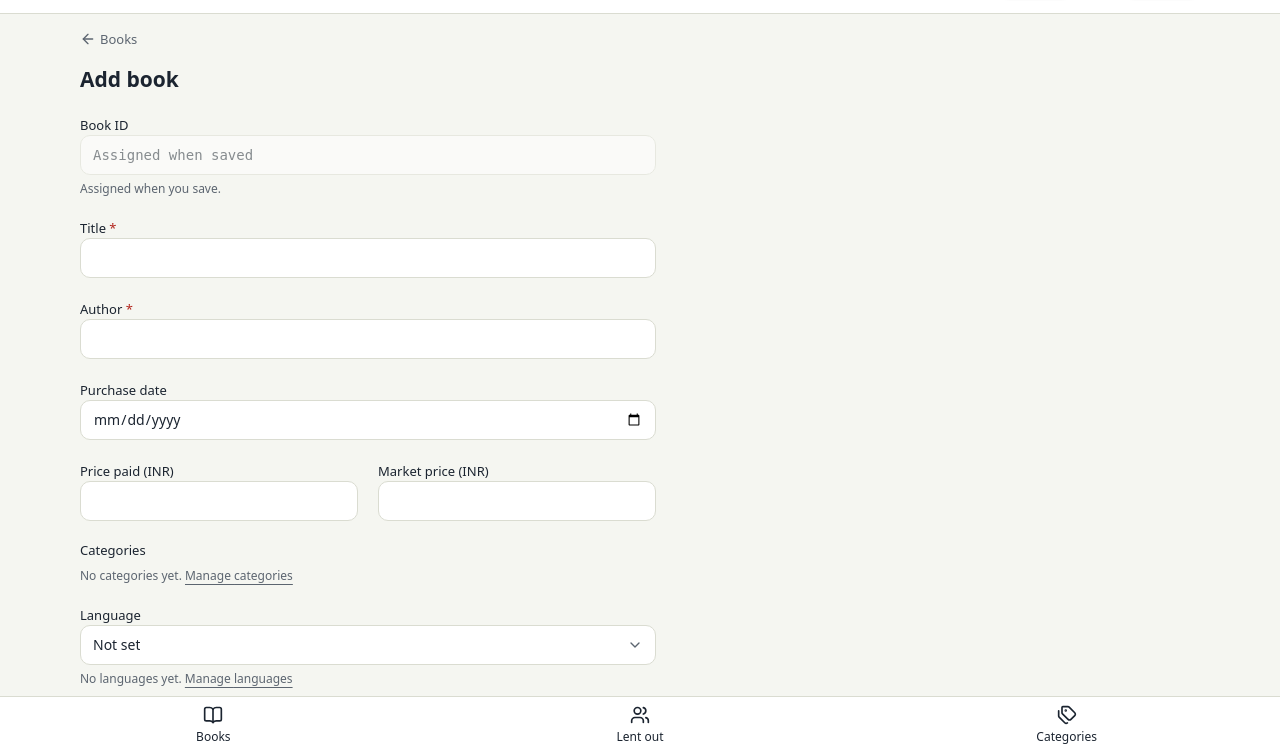
Test: saving problems › says which tab is missing when the Sheet is not set up, and keeps what was typed
Type "Dune" into the field labelled "Title *". click: {"x": 368, "y": 258}
box: [80,238,656,278]
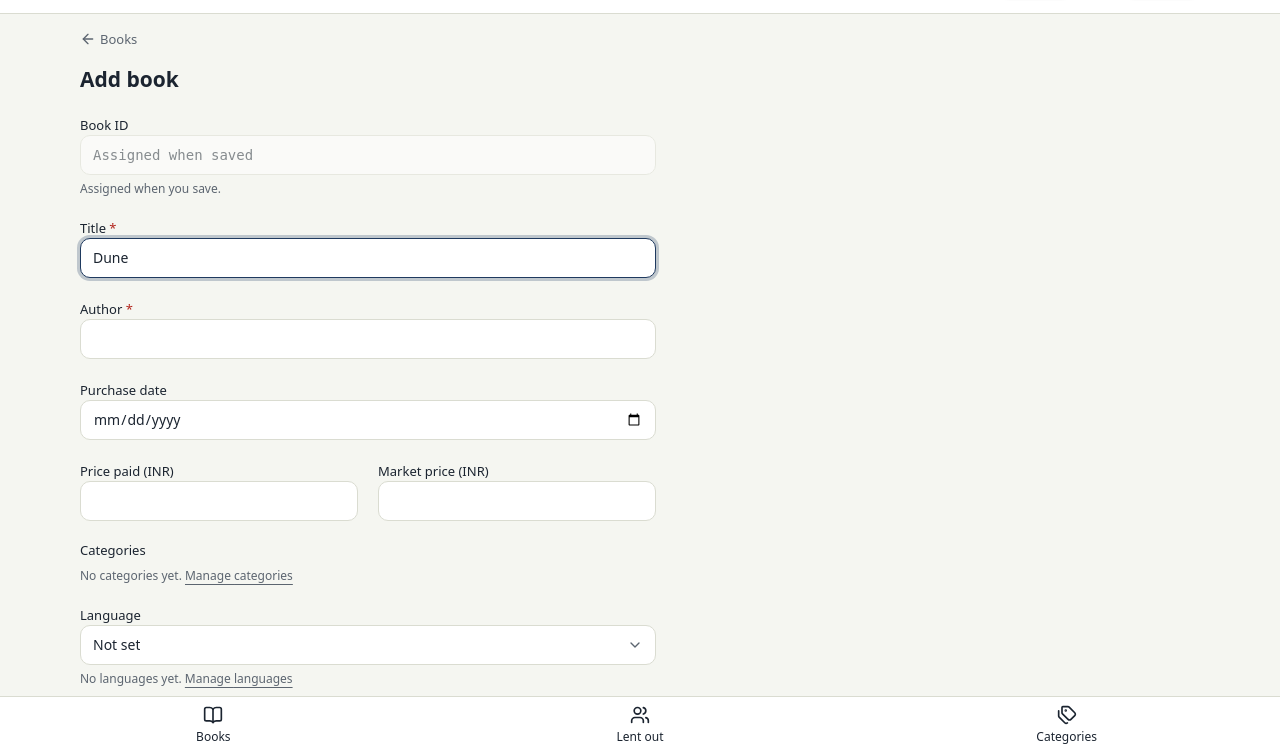
Type "Herbert" into the field labelled "Author *". click: {"x": 368, "y": 339}
box: [80,319,656,359]
(page scrolled)
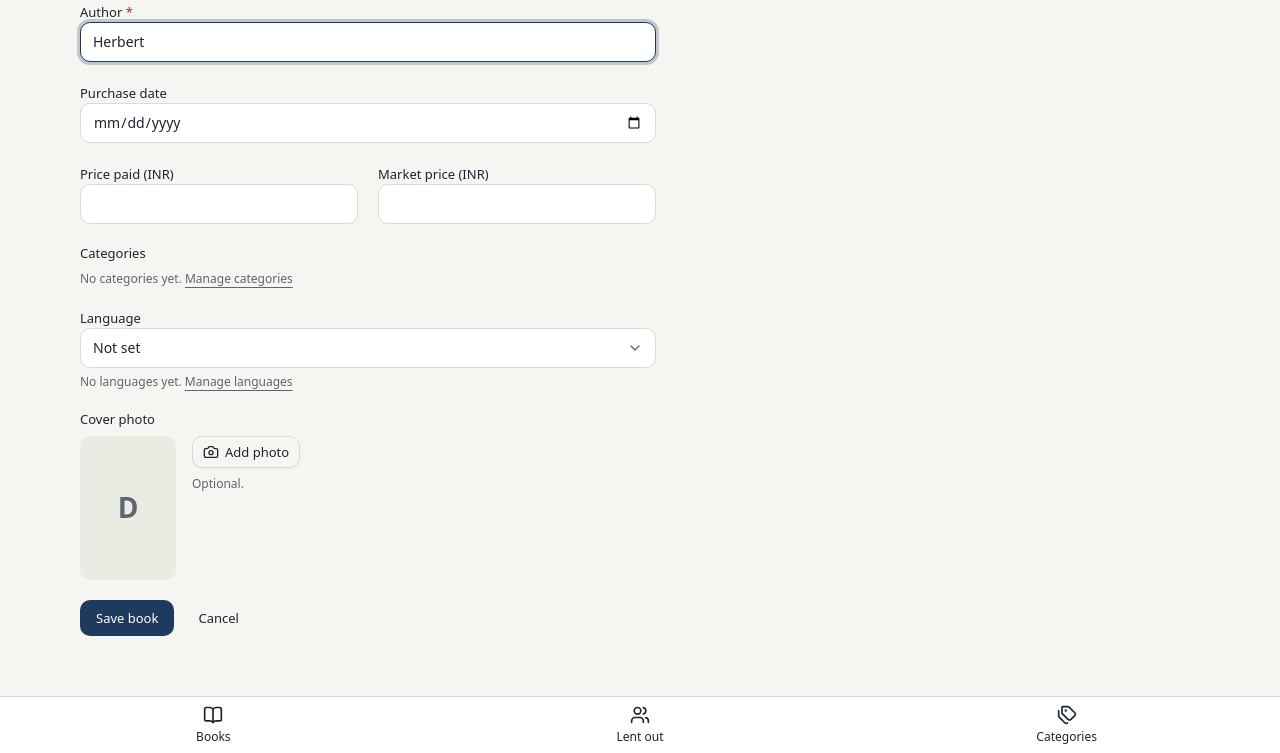
Click the button "Save book". click: {"x": 127, "y": 618}
box: [80,600,174,636]
(page scrolled)
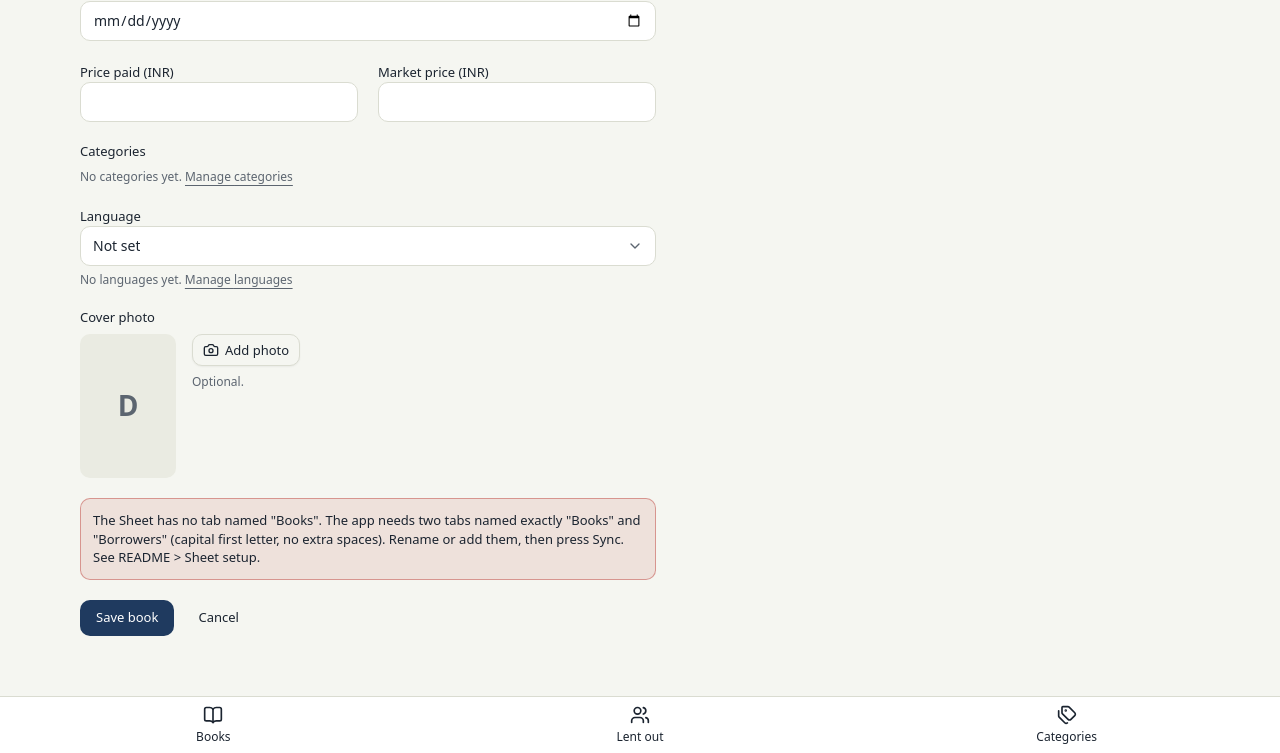
Check: the message shows "no tab named \"Books\"", box [93,511,640,566]
